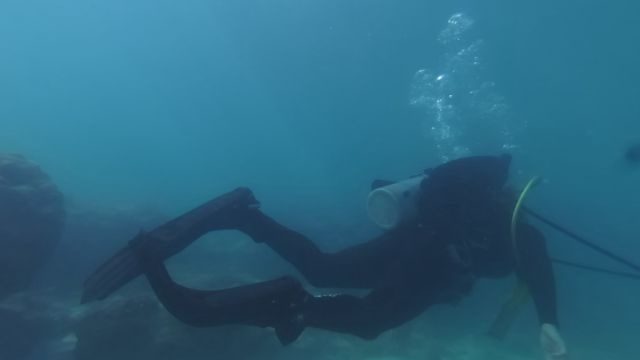Diver: (81, 143, 585, 359)
Hand: (530, 317, 574, 357)
